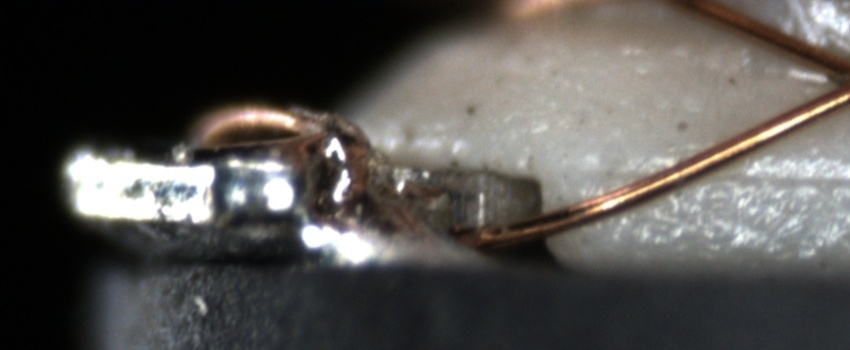CL: (804, 32, 849, 121)
DL: (559, 148, 849, 205)
TE: (168, 95, 363, 151)
